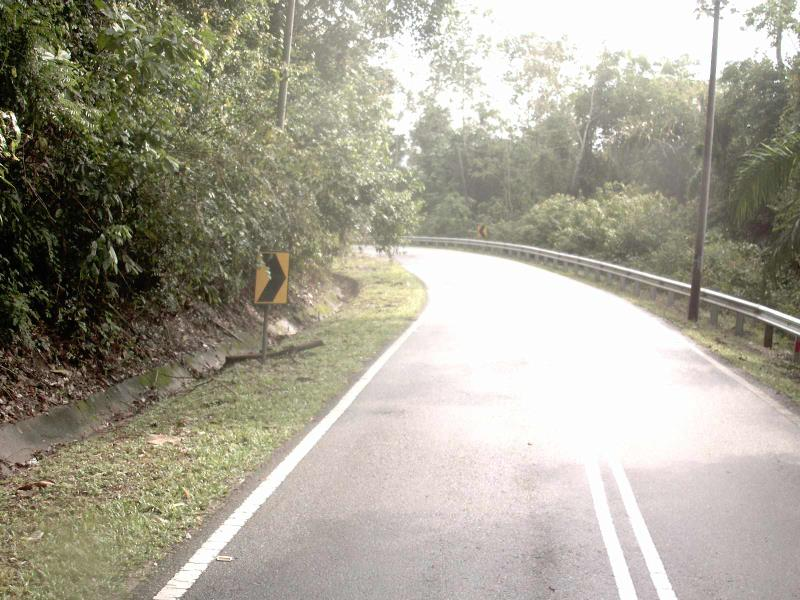traffic_sign: (244, 241, 299, 316)
